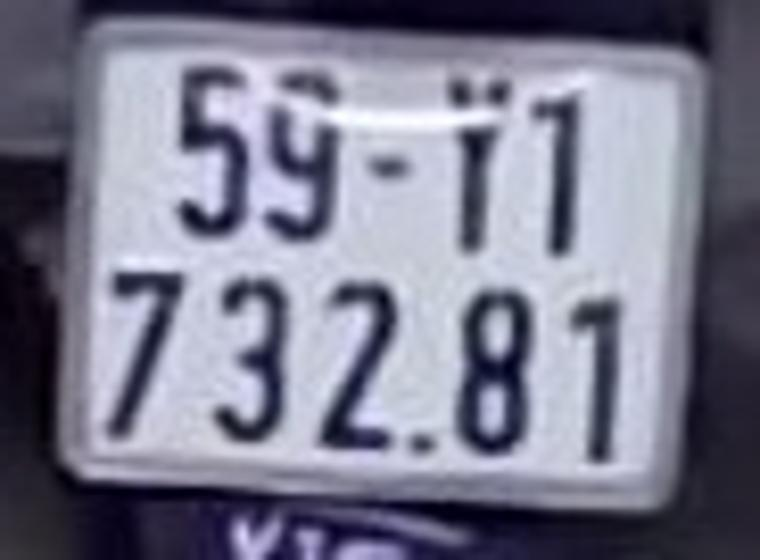-: (366, 144, 420, 188)
.: (409, 424, 442, 461)
1: (565, 290, 627, 475), (530, 75, 591, 262)
2: (319, 274, 402, 457)
3: (211, 267, 294, 449)
5: (176, 54, 253, 243)
7: (94, 259, 192, 448)
8: (456, 277, 540, 460)
9: (259, 57, 348, 244)
Y: (440, 67, 519, 260)
